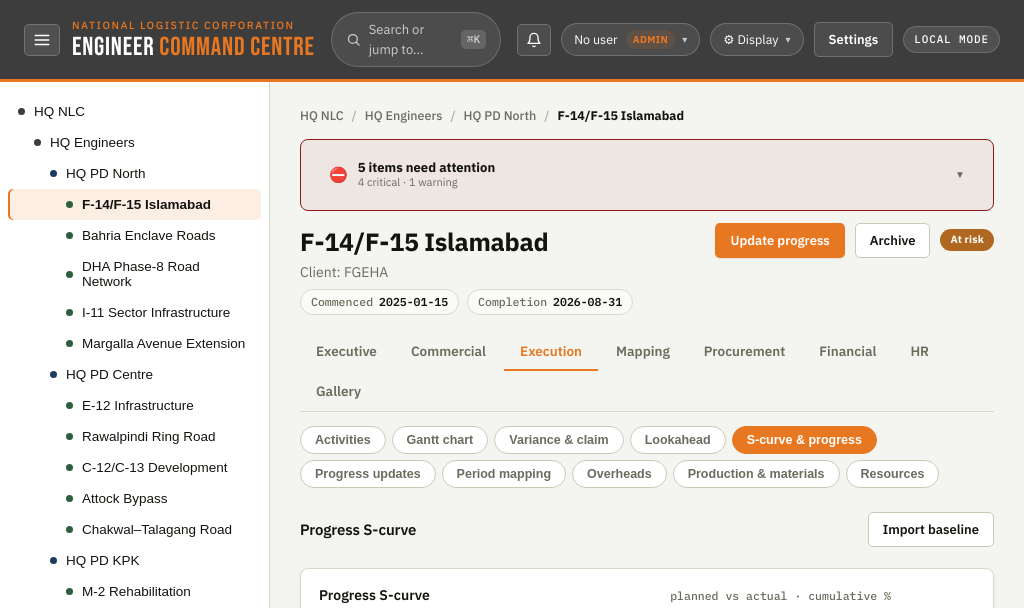
Test case: Phase 4 — execution › shows the seeded schedule
The image size is (1024, 608).
Expected: the heading "Progress S-curve" is shown, [300,518,416,541]
Click the tab "Activities".
click(343, 440)  # box [300,426,386,454]
(page scrolled)
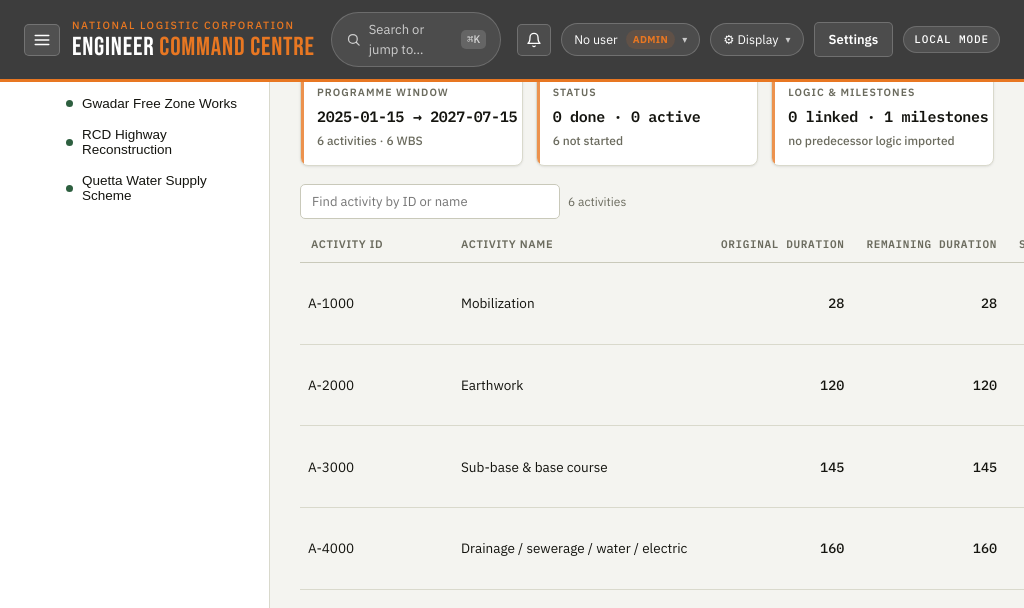
Now the text "Earthwork" is shown, box [450,344,710,426]
